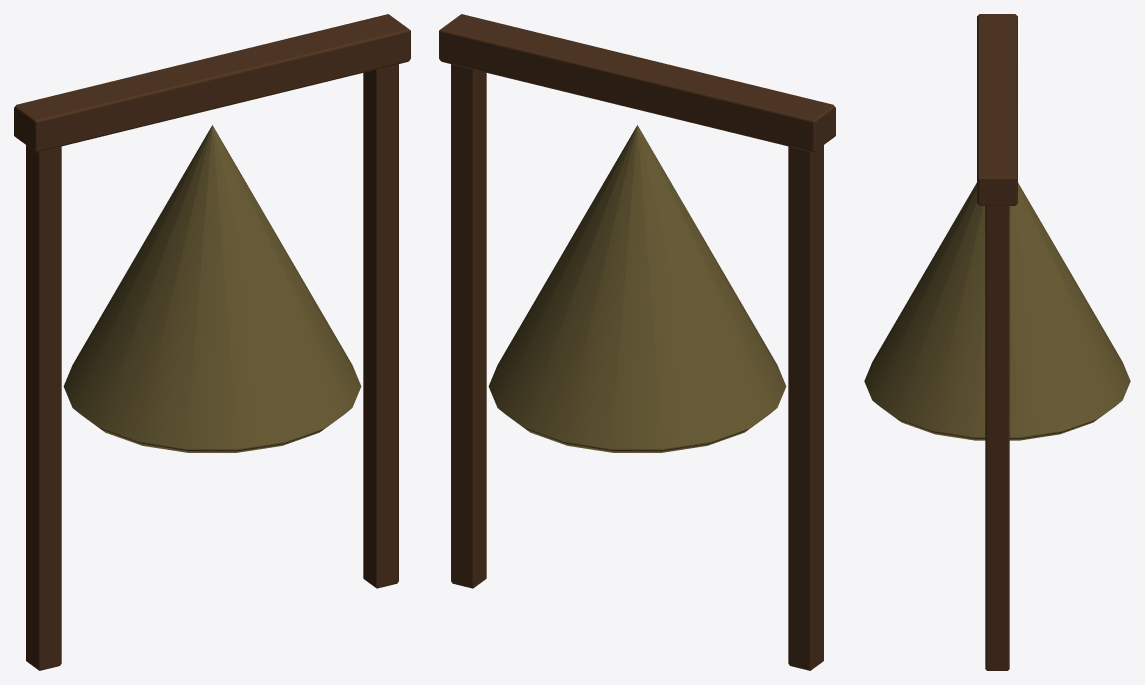
The model's file is bell.1e3accc4.glb.
3 renders of one model, left to right at view 1: azimuth 30°, elevation 25°; view 2: azimuth 150°, elevation 25°; view 3: azimuth 270°, elevation 25°, orthographic. The views are drawn at different scales.
Parts seen in each view (by area): view 1: body; view 2: body; view 3: body.
Boxes of the visible parts, x1=… form: body: x1=14, y1=14, x2=410, y2=670; body: x1=439, y1=14, x2=835, y2=670; body: x1=864, y1=14, x2=1130, y2=670.
Bounding box in the file's own units: 1.9 × 2.68 × 1.3.
